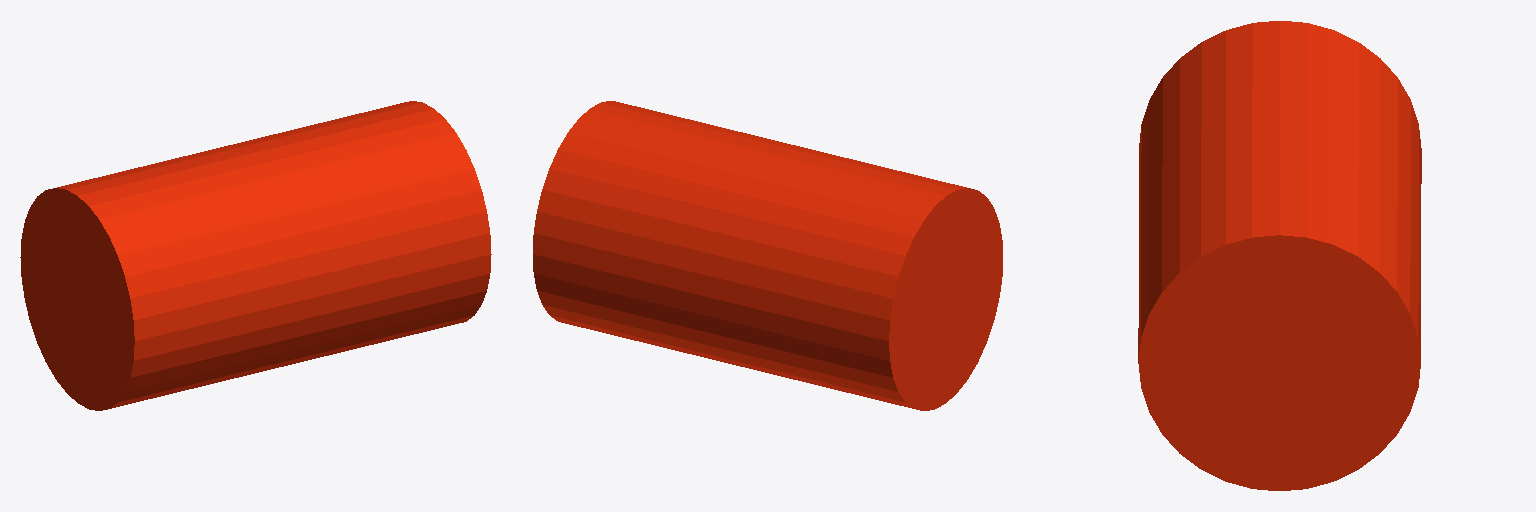
The robot description file, URDF, robot "root":
<?xml version="0.0" ?>
<robot name="root">
  <link name="base">
    <inertial>
      <origin rpy="0 0 0" xyz="0 0 0"/>
      <mass value="0.001"/>
      <inertia ixx="-4.46E-06" ixy="-4.55E-07" ixz="1.95E-06" iyy="-2.47E-06" iyz="8.51E-08" izz="2.17E-06"/>
    </inertial>
    <visual>
      <origin rpy="1.57 0.0 1.57" xyz="0 0 0.0"/>
      <geometry>
        <cylinder length="0.18" radius="0.05"/>
      </geometry>
      <material name="Red">
      </material> 
    </visual>
    <collision>
      <origin rpy="1.57 0 1.57" xyz="0 0 0.0"/>
      <geometry>
        <cylinder length="0.18" radius="0.05"/>
      </geometry>
    </collision>
  </link>

  <material name="panda_white">
    <color rgba="1. 1. 1. 1."/>
  </material>
  <material name="red">
    <color rgba="1.0 0. 0. 1.0"/>
  </material>
  <material name="blue">
    <color rgba="0. 0. 1. 1.0"/>
  </material>
  <material name="green">
    <color rgba="0. 1. 0. 1.0"/>
  </material>
  <material name="Yellow">
    <color rgba="0.949 0.878 0.0392 1.0"/>
  </material>
  <material name="Blue">
    <color rgba="0.12156 0.3804 0.6745 1.0"/>
  </material>
  <material name="Red">
    <color rgba="0.9254901 0.243137 0.086274509 1.0"/>
  </material>

</robot>

--- Facts derived from the render (not from the file) ---
Views: 3 orthographic renders of the robot side by side, from view 1: azimuth 30°, elevation 25°; view 2: azimuth 150°, elevation 25°; view 3: azimuth 270°, elevation 25°.
Robot: root — 1 links, 0 joints (none); root link base; default pose: every joint at zero.
Visible links, largest first — view 1: base; view 2: base; view 3: base.
Boxes of the visible links, x1,y1,x2,y2 form: base: (20,101,491,410); base: (533,101,1002,410); base: (1138,21,1421,490).
Bounding box of the posed robot: 0.1801 × 0.1001 × 0.1001 m (x, y, z).
Geometry: primitives only (box / cylinder / sphere), no mesh files.